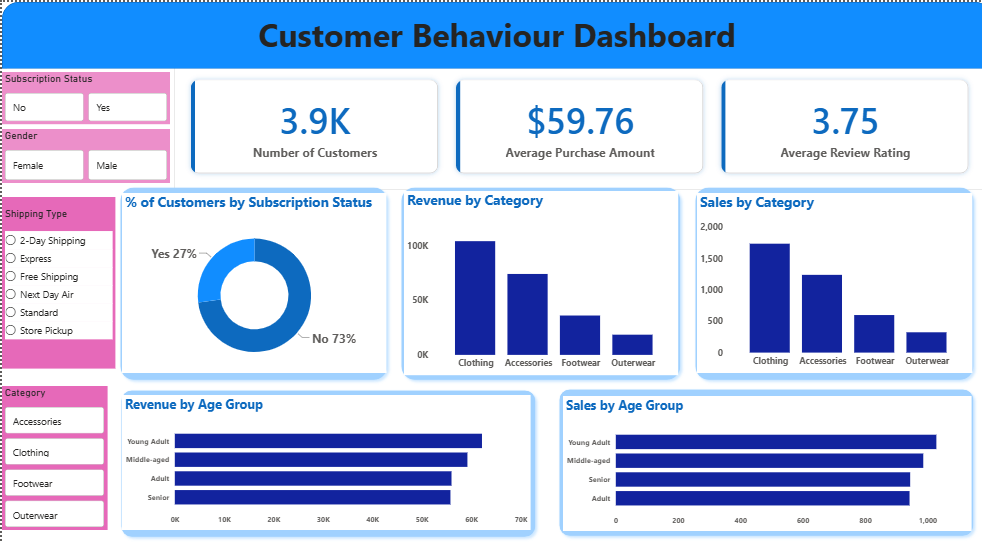

Layout of this report page (visuals, bound fields, positions):
{"tool":"powerbi","page":{"name":"Page 1","canvas":[1640,900],"ordinal":0},"visuals":[{"type":"cardVisual","fields":{"Data":["public customer.Number of customers","public customer.Average Purchase Amount","public customer.Average Review Rating"]},"box":[286.2,101.1,1354.3,212.9],"z":0},{"type":"shape","box":[0,0,1650,111.4],"z":1000},{"type":"textbox","box":[0,11.4,1650,90],"z":2000},{"type":"shape","box":[189,300,462.9,338.6],"z":3000},{"type":"donutChart","title":"% of Customers by Subscription Status","fields":{"Category":["public customer.subscription_status"],"Y":["CountNonNull(public customer.customer_id)"]},"box":[200.4,318.6,441.4,300],"z":4000},{"type":"shape","box":[1146.6,300,481.4,338.6],"z":5000},{"type":"shape","box":[656.6,300,482.9,338.6],"z":6000},{"type":"clusteredColumnChart","title":"Revenue by Category","fields":{"Y":["Sum(public customer.purchase_amount)"],"Category":["public customer.category"]},"box":[669.4,315.7,457.1,307.1],"z":7000},{"type":"clusteredColumnChart","title":"Sales by Category","fields":{"Category":["public customer.category"],"Y":["CountNonNull(public customer.customer_id)"]},"box":[1158,318.6,458.6,300],"z":8000},{"type":"advancedSlicerVisual","fields":{"Values":["public customer.subscription_status"]},"box":[0,117.1,280,87.1],"z":9000},{"type":"advancedSlicerVisual","fields":{"Values":["public customer.gender"]},"box":[0,211.4,280,90],"z":10000},{"type":"advancedSlicerVisual","fields":{"Values":["public customer.category"]},"box":[0,639.4,175.7,240],"z":11000},{"type":"listSlicer","fields":{"Values":["public customer.shipping_type"]},"box":[0,324.7,189.4,286],"z":12000},{"type":"shape","box":[189.4,638,707.8,262],"z":13000},{"type":"clusteredBarChart","title":"Revenue by Age Group","fields":{"Y":["Sum(public customer.purchase_amount)"],"Category":["public customer.age_group"]},"box":[200.8,655.1,680.7,225],"z":14000},{"type":"shape","box":[919.9,636.6,707.8,262],"z":15000},{"type":"clusteredBarChart","title":"Sales by Age Group","fields":{"Category":["public customer.age_group"],"Y":["CountNonNull(public customer.customer_id)"]},"box":[934.2,656.5,680.7,225],"z":16000}]}

Visuals, with their boxes in screenshot pixels (x1, y1, x2, y2), scaled from the page's 1640x900 canvas onto the 982x542 screenshot:
cardVisual - public customer.Number of customers x public customer.Average Purchase Amount: 171,61,981,189
shape: 0,0,981,67
textbox: 0,7,981,61
shape: 113,181,390,385
"% of Customers by Subscription Status" donutChart: 120,192,384,373
shape: 687,181,975,385
shape: 393,181,682,385
"Revenue by Category" clusteredColumnChart: 401,190,675,375
"Sales by Category" clusteredColumnChart: 693,192,968,373
advancedSlicerVisual - public customer.subscription_status: 0,71,168,123
advancedSlicerVisual - public customer.gender: 0,127,168,182
advancedSlicerVisual - public customer.category: 0,385,105,530
listSlicer - public customer.shipping_type: 0,196,113,368
shape: 113,384,537,541
"Revenue by Age Group" clusteredBarChart: 120,395,528,530
shape: 551,383,975,541
"Sales by Age Group" clusteredBarChart: 559,395,967,531
